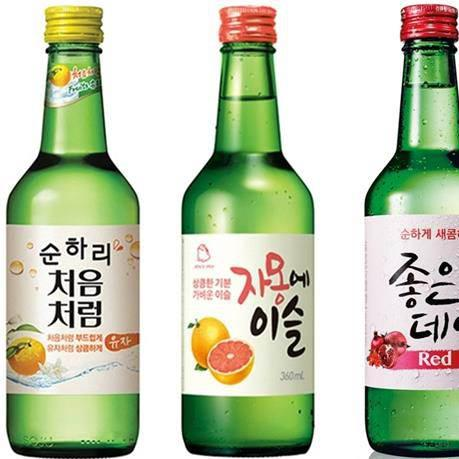soju: (4, 4, 459, 458)
